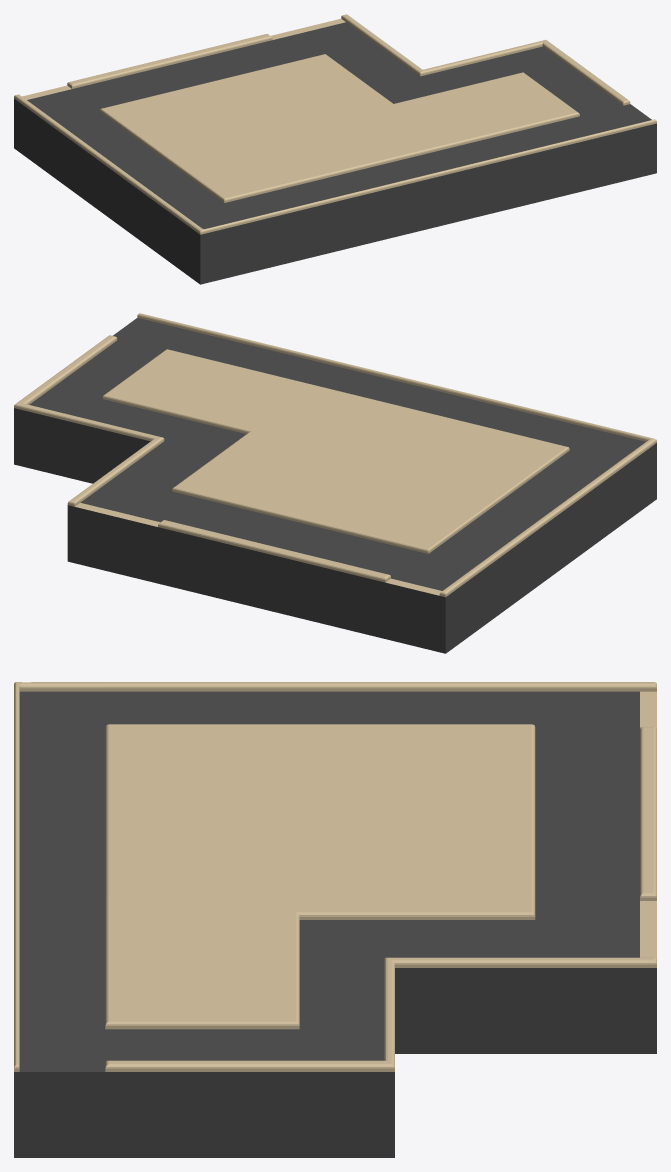
File: EstradaBloco3.fbx
3 views of the same model, one above another, from view 1: azimuth 30°, elevation 25°; view 2: azimuth 150°, elevation 25°; view 3: azimuth 270°, elevation 25° (orthographic). The views are drawn at different scales.
Parts seen in each view (by area): view 1: Cube.009; view 2: Cube.009; view 3: Cube.009.
Part boxes in pixels (left/top/right/bottom): Cube.009: left=14, top=14, right=656, bottom=284; Cube.009: left=14, top=313, right=656, bottom=653; Cube.009: left=14, top=682, right=656, bottom=1157.
Size of the model in its own units: 279 by 31.24 by 197.
